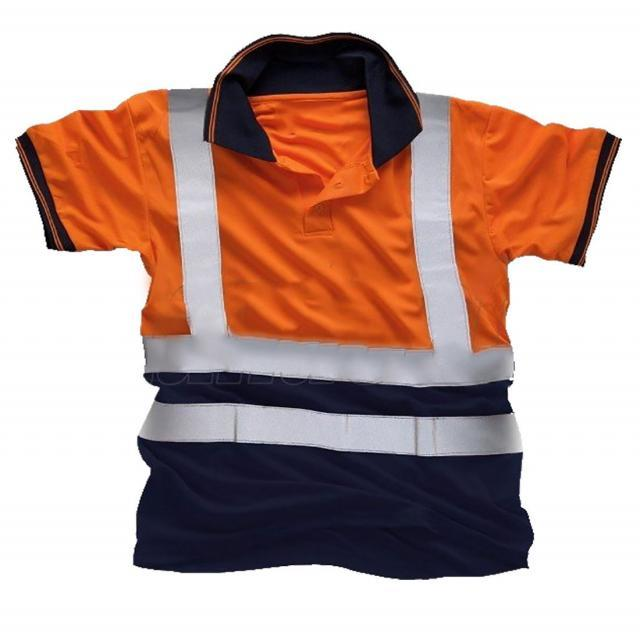reflective_jacket: (14, 41, 613, 435)
